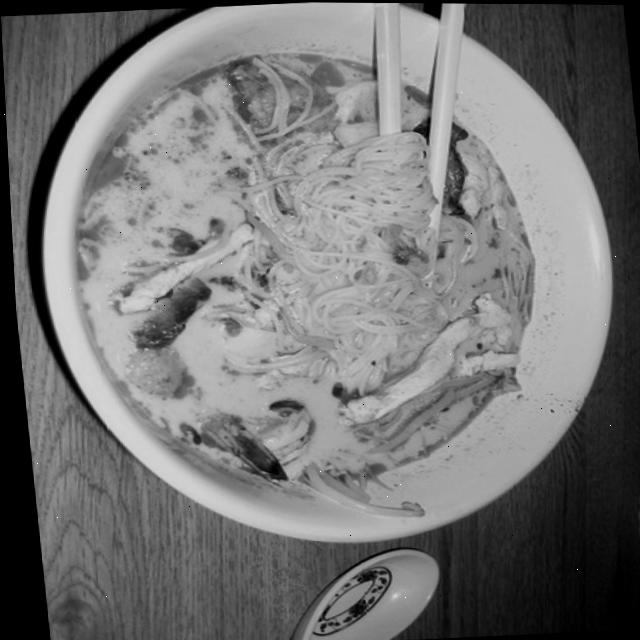面条主食: (22, 7, 623, 528)
